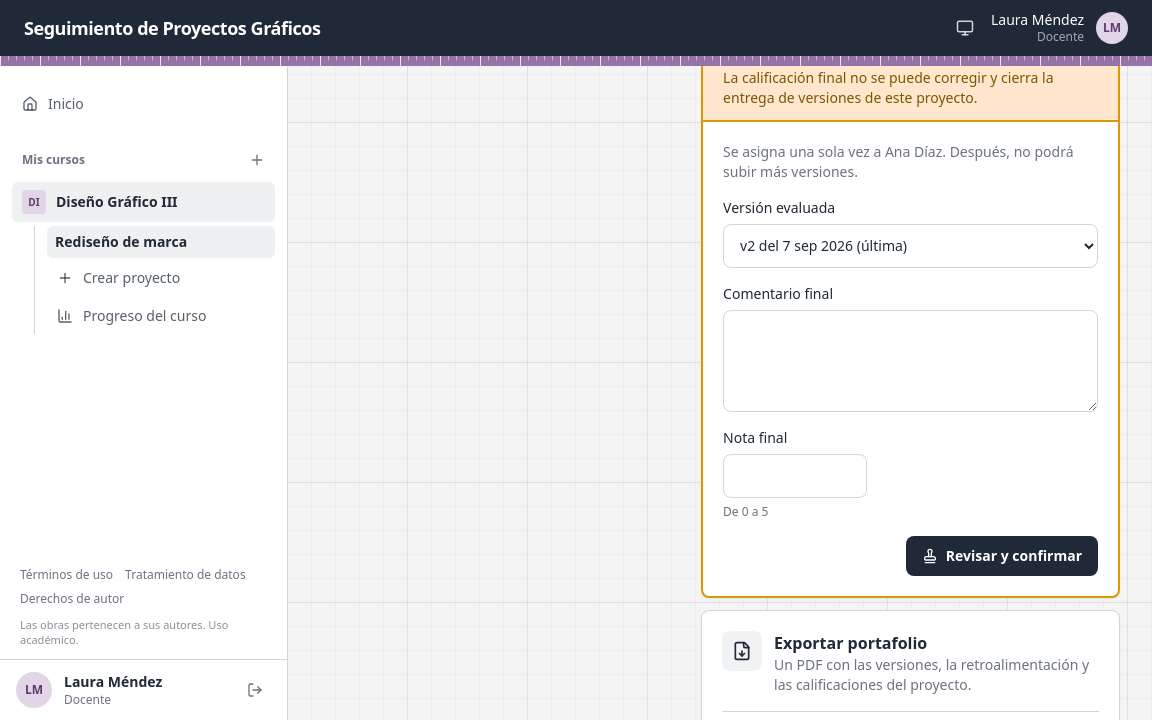
Test: Calificaciones › muestra el 409 de calificación final dentro del diálogo
The width and height of the screenshot is (1152, 720).
(page scrolled)
Type "Cierre" into the text box labelled "Comentario final" at (911, 361), box [723,310,1098,412]
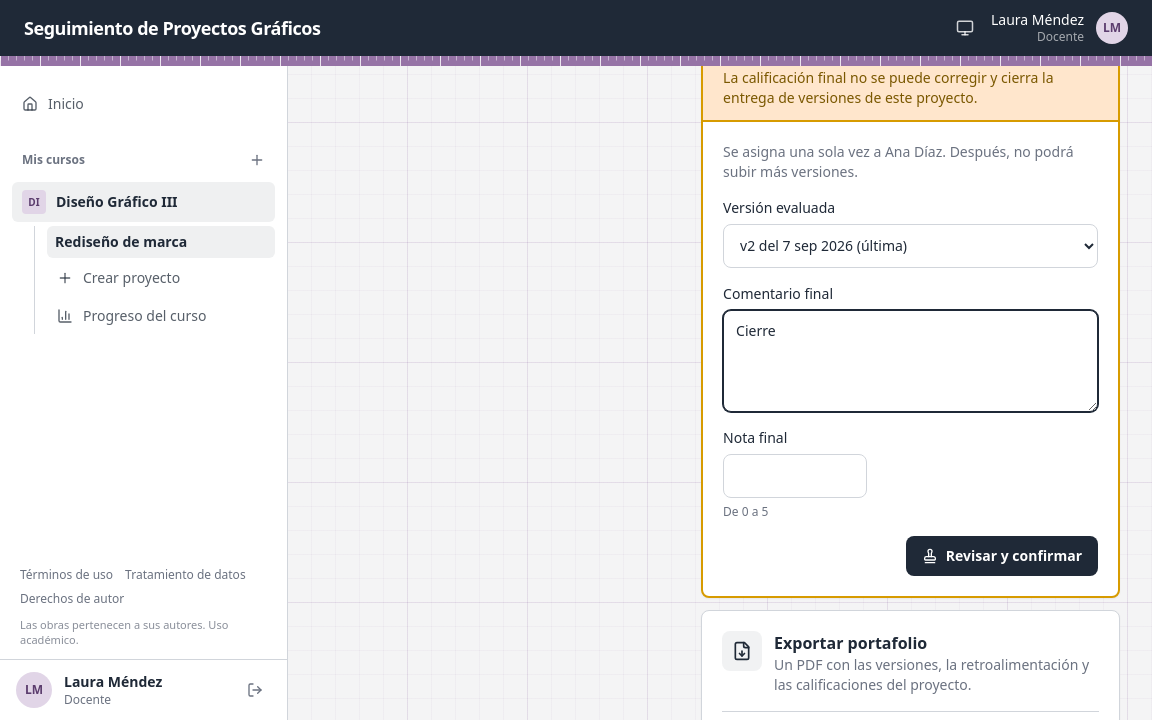
Type "4.5" into the number field labelled "Nota final" at (795, 476), box [723,454,867,498]
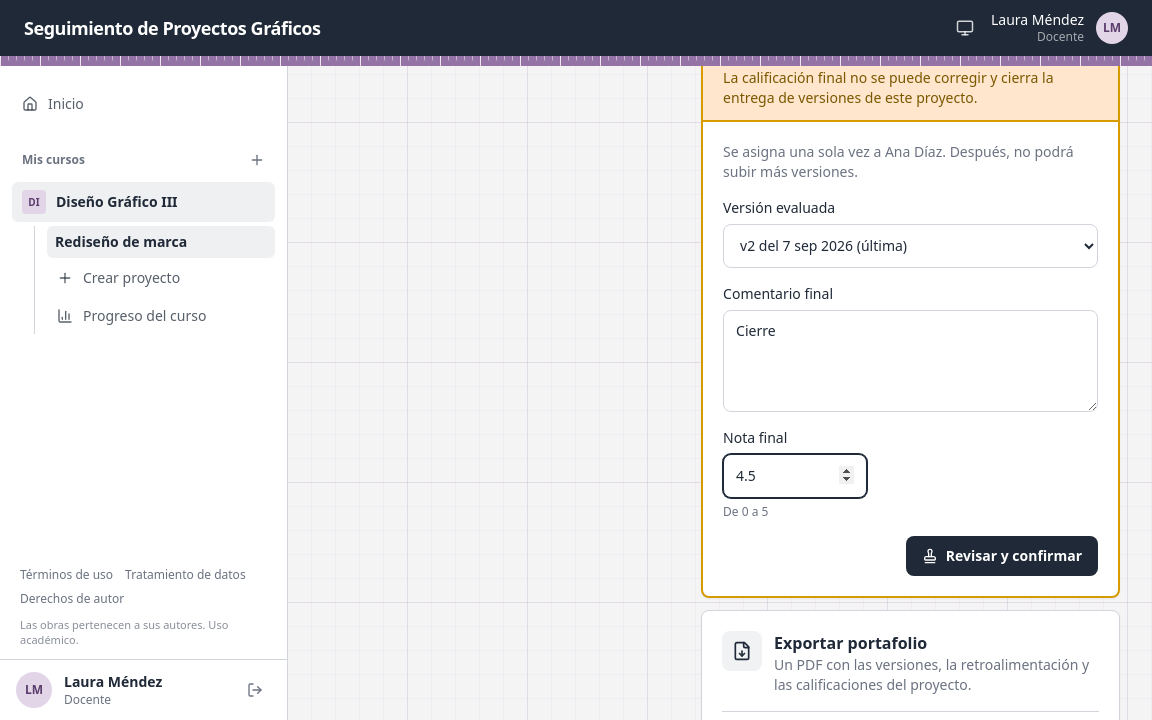
Click the button "Revisar y confirmar" at (1002, 556), box [906,536,1098,576]
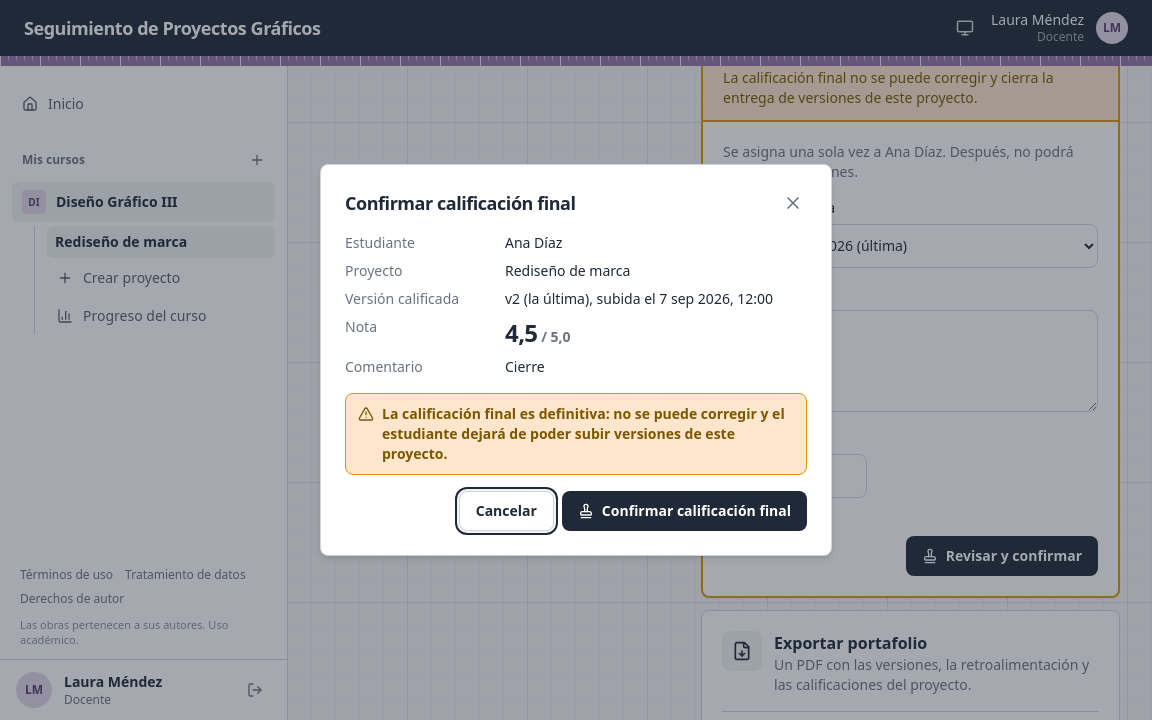
Click the button "Confirmar calificación final" at (684, 511), box [562,491,807,531]
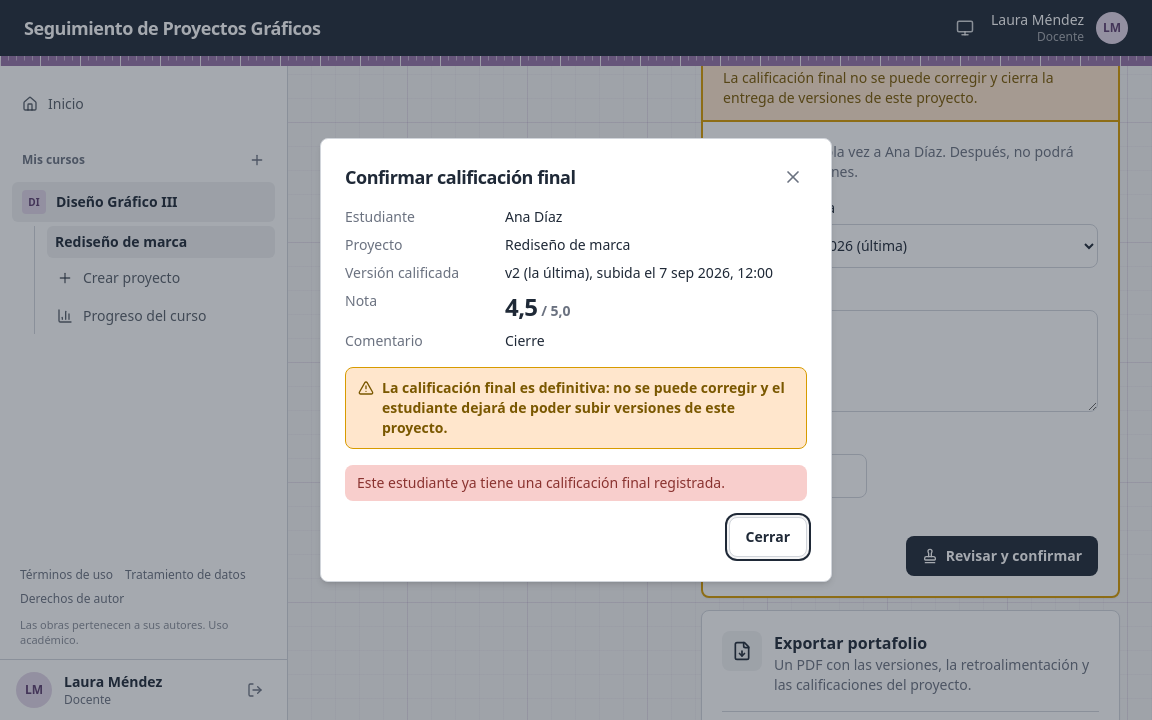
Expected: the message reads "Este estudiante ya tiene una calificación final registrada.", [357,473,725,492]
